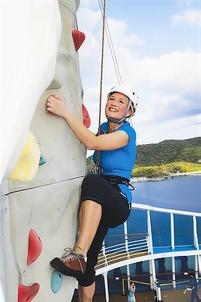person: (47, 84, 137, 302)
